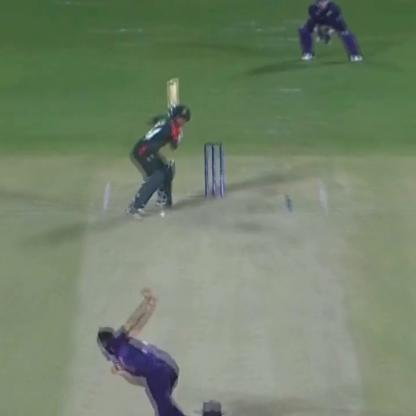ball: (157, 206, 169, 221)
bat: (69, 178, 365, 415), (162, 72, 188, 129)
